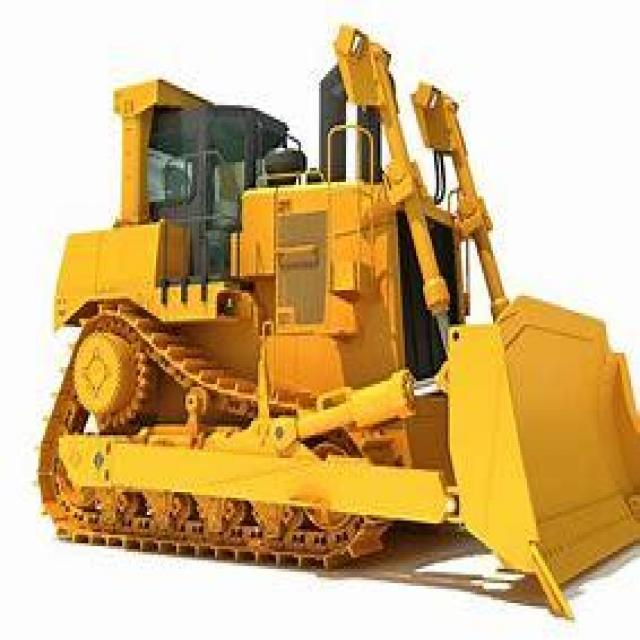Bulldozer: (16, 17, 638, 612)
